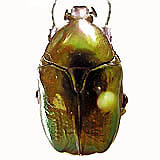Protaetia_angustata_angustata: (32, 1, 128, 156)
